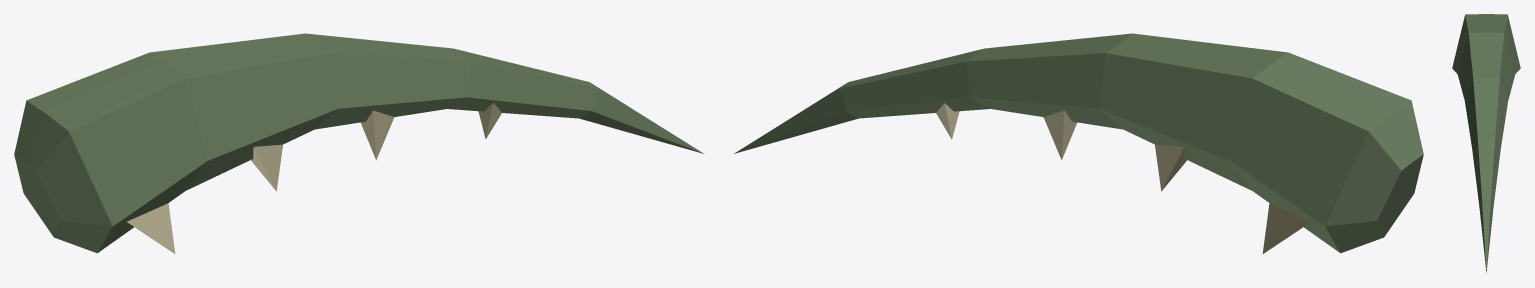
Rendered from ScreecherMouthPart.fbx.
3 views of the same model, side by side, from view 1: azimuth 30°, elevation 25°; view 2: azimuth 150°, elevation 25°; view 3: azimuth 270°, elevation 25° (orthographic). The views are drawn at different scales.
Parts seen in each view (by area): view 1: Claw26; view 2: Claw26; view 3: Claw26.
Boxes of the visible parts, bbox=[...] form: Claw26: bbox=[14, 33, 703, 253]; Claw26: bbox=[734, 33, 1423, 253]; Claw26: bbox=[1452, 14, 1520, 273].
Bounding box in the file's own units: 4.61 × 1.43 × 0.8067.
